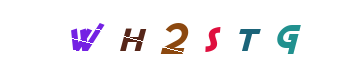2: (134, 0, 214, 80)
G: (234, 0, 314, 80)
H: (118, 0, 198, 80)
S: (137, 0, 217, 80)
T: (172, 0, 252, 80)
W: (44, 0, 124, 80)
